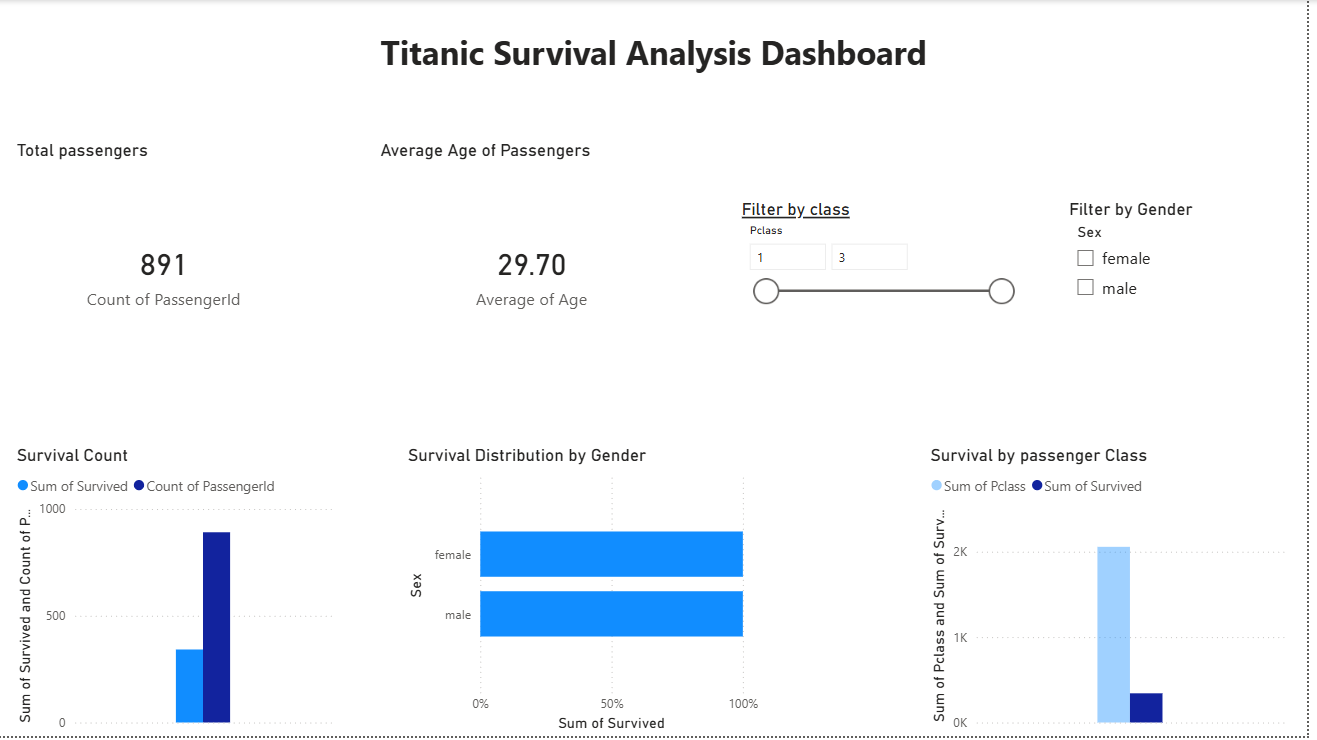

The page's visual inventory and layout, read from the dashboard file:
{"tool":"powerbi","page":{"name":"Page 1","canvas":[1280,720],"ordinal":0},"visuals":[{"type":"slicer","title":"Filter by Gender","fields":{"Values":["train.Sex"]},"box":[1042.9,194.9,222.3,127.6],"z":0},{"type":"card","title":"Total passengers","fields":{"Values":["CountNonNull(train.PassengerId)"]},"box":[13.7,137.2,297.8,242.9],"z":1000},{"type":"card","title":"Average Age of Passengers","fields":{"Values":["Avg(train.Age)"]},"box":[369.1,137.2,306,242.9],"z":2000},{"type":"clusteredColumnChart","title":"Survival Count","fields":{"Y":["Sum(train.Survived)","CountNonNull(train.PassengerId)"]},"box":[13.7,435,319.7,285.4],"z":3000},{"type":"hundredPercentStackedBarChart","title":"Survival Distribution by Gender","fields":{"Category":["train.Sex"],"Y":["Sum(train.Survived)","Sum(train.Survived)"]},"box":[396.6,435,352.7,285.4],"z":4000},{"type":"clusteredColumnChart","title":"Survival  by passenger Class","fields":{"Y":["Sum(train.Pclass)","Sum(train.Survived)"]},"box":[907,435,358.1,285.4],"z":5000},{"type":"slicer","title":"Filter by class","fields":{"Values":["train.Pclass"]},"box":[723.2,194.9,279.9,127.6],"z":6000},{"type":"textbox","box":[369.1,24.7,562.6,79.6],"z":7000}]}

Visuals, with their boxes in screenshot pixels (x1, y1, x2, y2), scaled from the page's 1280x720 canvas onto the 1317x740 screenshot:
"Filter by Gender" slicer: 1073/200/1302/331
"Total passengers" card: 14/141/321/391
"Average Age of Passengers" card: 380/141/695/391
"Survival Count" clusteredColumnChart: 14/447/343/739
"Survival Distribution by Gender" hundredPercentStackedBarChart: 408/447/771/739
"Survival  by passenger Class" clusteredColumnChart: 933/447/1302/739
"Filter by class" slicer: 744/200/1032/331
textbox: 380/25/959/107
